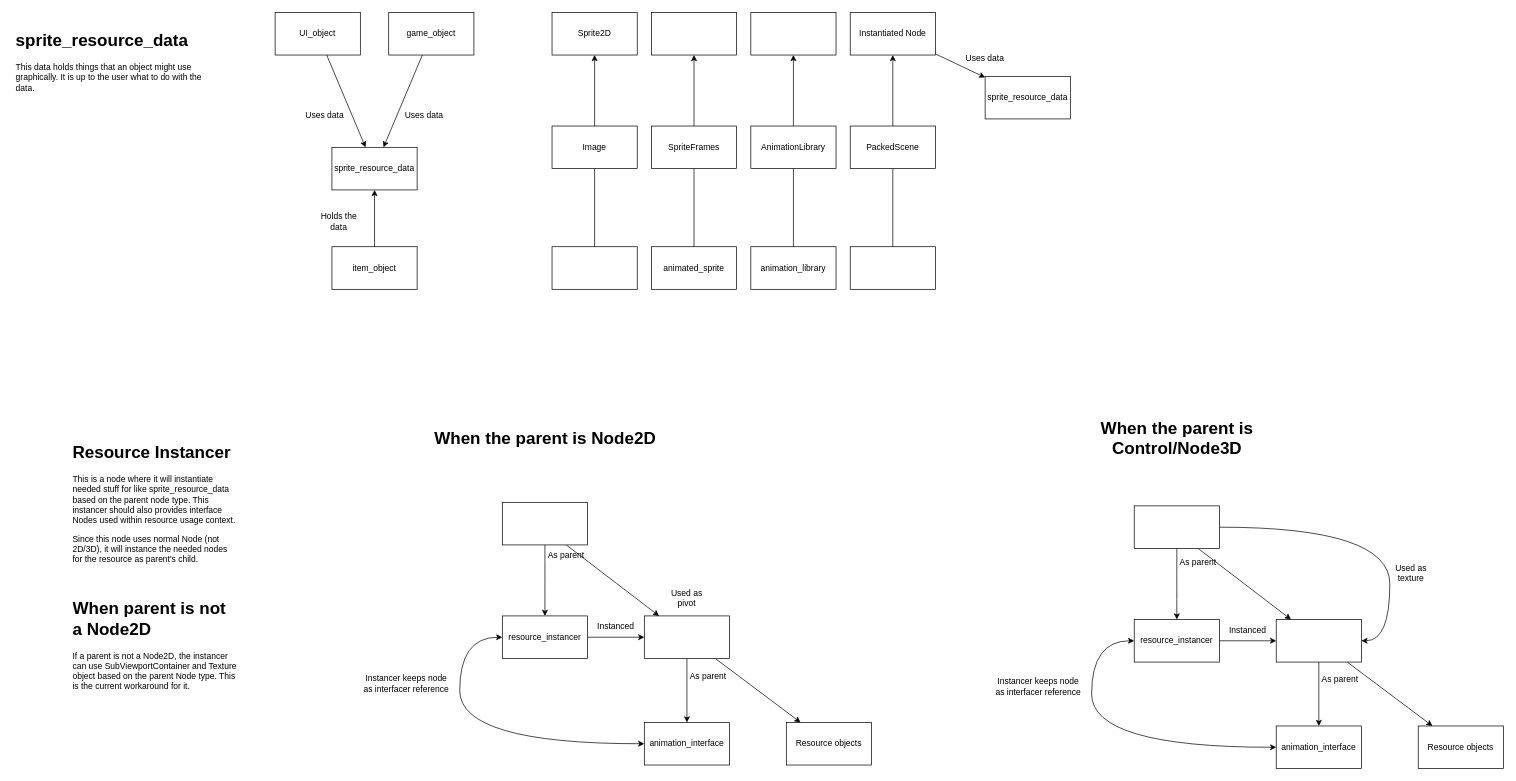
The diagram is 1516 pixels wide and 781 high, and some of its shapes have lost their labels. The shapes that lost their labels are listed below. From the top down, each one's centre as x and y in pixels, then its label:
At pixel 694 33: "AnimatedSprite2D".
At pixel 793 33: "AnimationPlayer".
At pixel 594 267: "static_sprite".
At pixel 892 267: "custom_object_sprite".
At pixel 545 523: "Game Object (Node2D)".
At pixel 1176 526: "Node3D/Control".
At pixel 687 637: "Node2D".
At pixel 1318 640: "SubViewport".
